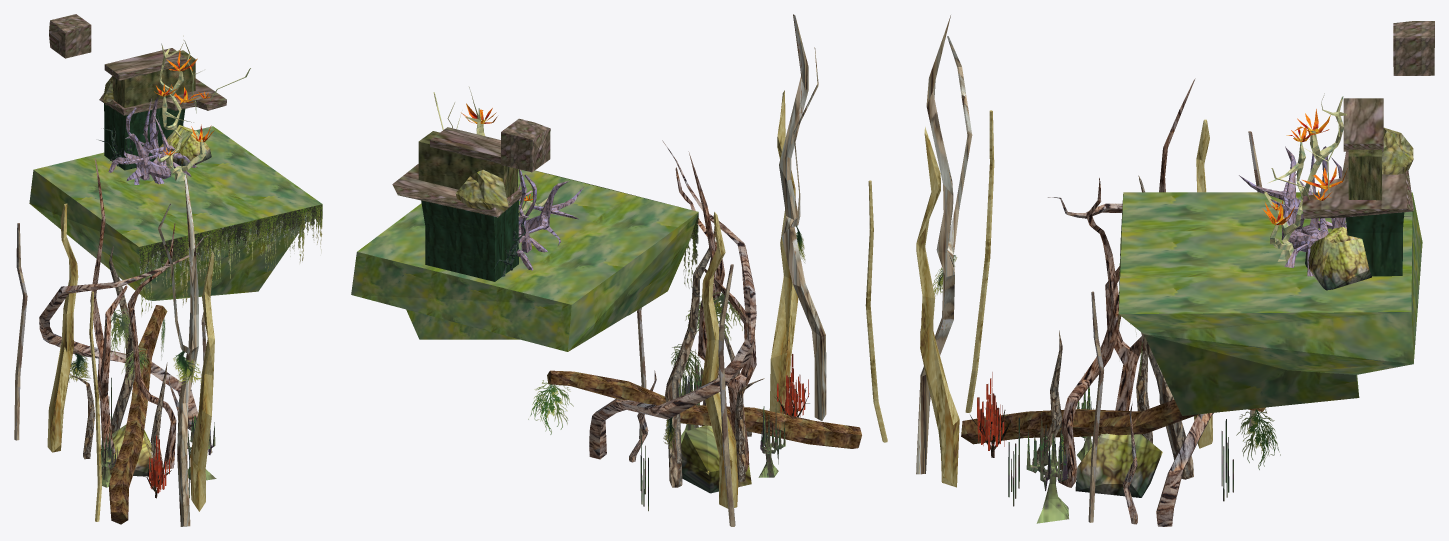
File: Island_1.gltf
3 views of the same model, side by side, from view 1: azimuth 30°, elevation 25°; view 2: azimuth 150°, elevation 25°; view 3: azimuth 270°, elevation 25° (orthographic). The views are drawn at different scales.
Visible parts, largest first — view 1: Island_1; view 2: Island_1; view 3: Island_1.
Boxes of the visible parts, x1,y1,x2,y2 form: Island_1: (14,14,322,526); Island_1: (351,14,887,526); Island_1: (916,15,1434,526).
Size of the model in its own units: 31.13 by 37.93 by 36.01.
Materials: 137 (137 with a texture image).
